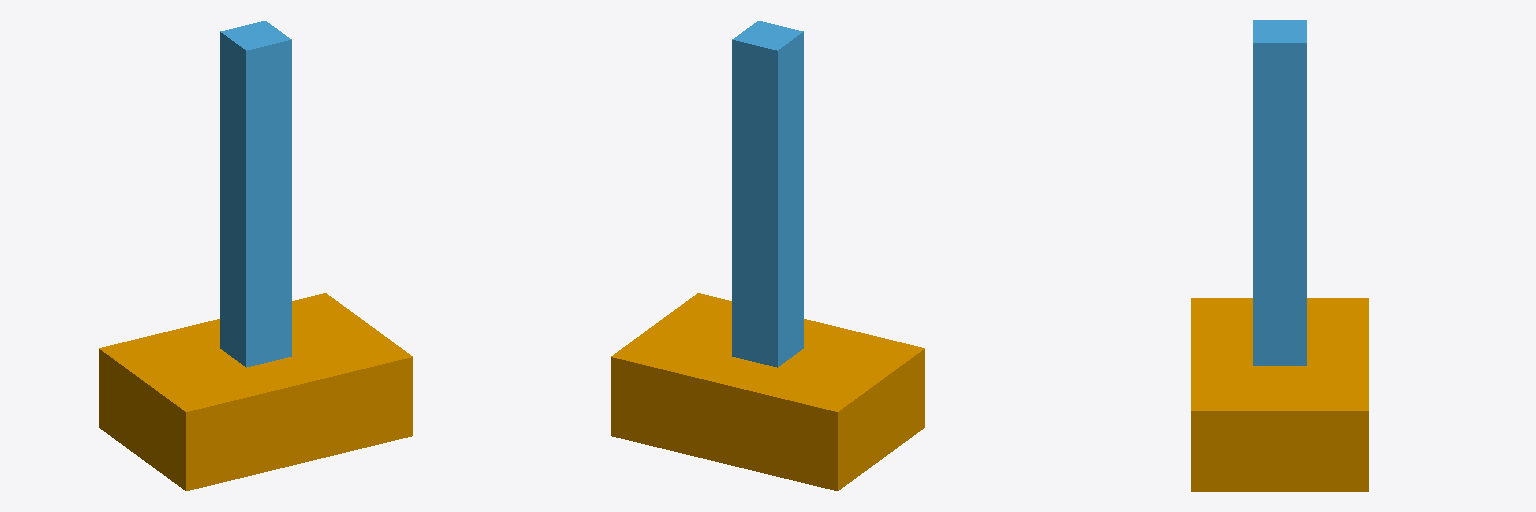
The robot description file, URDF, robot "blend_my_bot_test":
<?xml version="1.0"?>
<robot name="blend_my_bot_test">
  <link name="base">
    <visual>
      <geometry><mesh filename="cube.obj" scale="0.6 0.4 0.2"/></geometry>
    </visual>
  </link>
  <link name="arm">
    <visual>
      <origin xyz="0 0 0.4"/>
      <geometry><mesh filename="cube.obj" scale="0.12 0.12 0.8"/></geometry>
    </visual>
  </link>
  <joint name="shoulder" type="revolute">
    <parent link="base"/>
    <child link="arm"/>
    <origin xyz="0 0 0.1"/>
    <axis xyz="0 1 0"/>
    <limit lower="-1.57" upper="1.57" effort="10" velocity="1"/>
  </joint>
</robot>

--- Facts derived from the render (not from the file) ---
The picture shows the robot from 3 angles, left to right: view 1: azimuth 30°, elevation 25°; view 2: azimuth 150°, elevation 25°; view 3: azimuth 270°, elevation 25°; orthographic projection.
Robot: blend_my_bot_test — 2 links, 1 joints (1 revolute); root link base; default pose: all joints at 0.
Visible links, largest first — view 1: base, arm; view 2: base, arm; view 3: base, arm.
Link boxes in pixels (box(x1,y1,x2,y2)): base: box(99, 293, 412, 490); arm: box(220, 21, 291, 367); base: box(611, 293, 924, 490); arm: box(732, 21, 803, 367); base: box(1191, 298, 1368, 491); arm: box(1253, 20, 1306, 365).
Bounding box of the posed robot: 0.6 × 0.4 × 1 m (x, y, z).
2 mesh visuals loaded from 1 distinct referenced files (1 OBJ).
